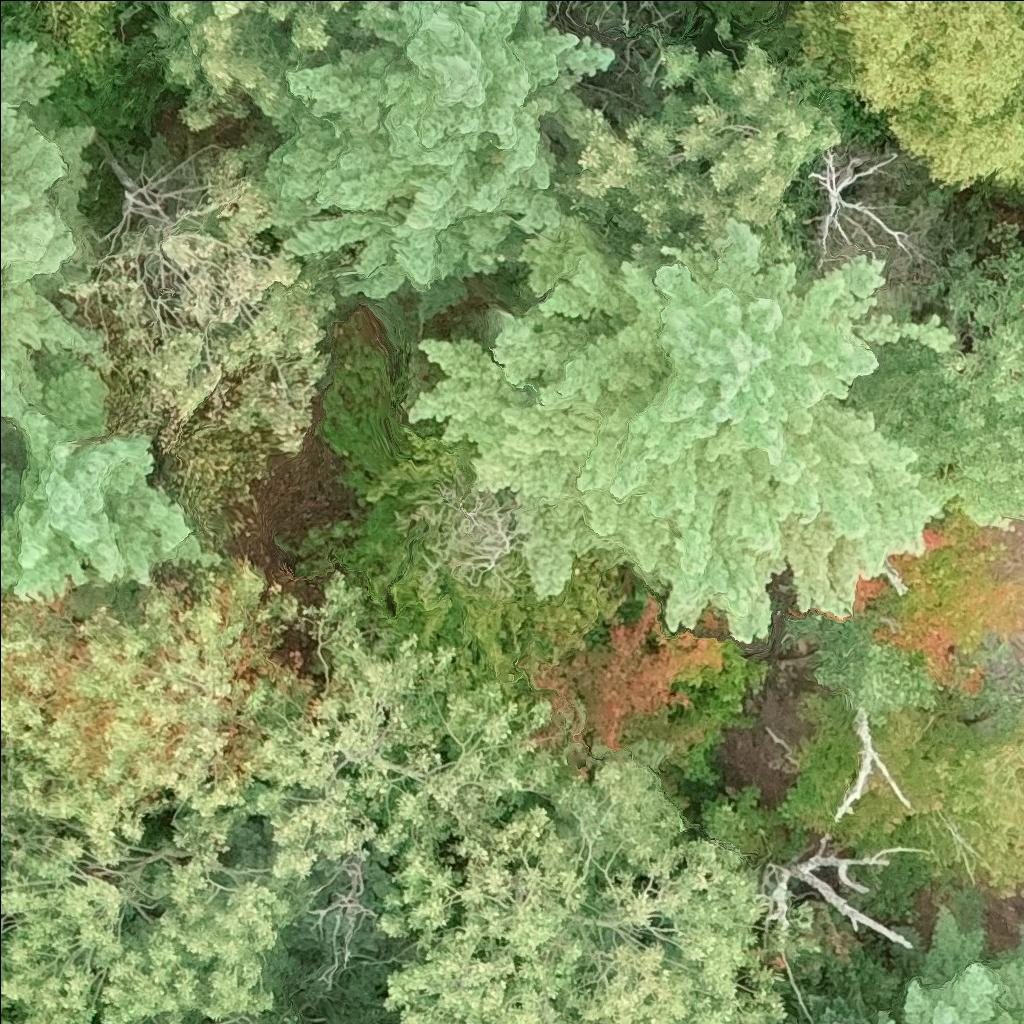crown: (0, 566, 602, 1023), (566, 225, 957, 567), (49, 144, 342, 546), (270, 0, 608, 302), (407, 231, 673, 597), (403, 776, 762, 1023), (524, 44, 833, 270), (536, 564, 774, 804), (844, 215, 1023, 528), (0, 349, 215, 604), (661, 450, 940, 643), (797, 0, 1023, 191), (0, 48, 96, 382), (873, 496, 1023, 695), (154, 0, 370, 128), (740, 850, 918, 948), (903, 913, 1023, 1023), (823, 712, 910, 836), (0, 0, 136, 77), (552, 0, 628, 32), (876, 1015, 892, 1023)
